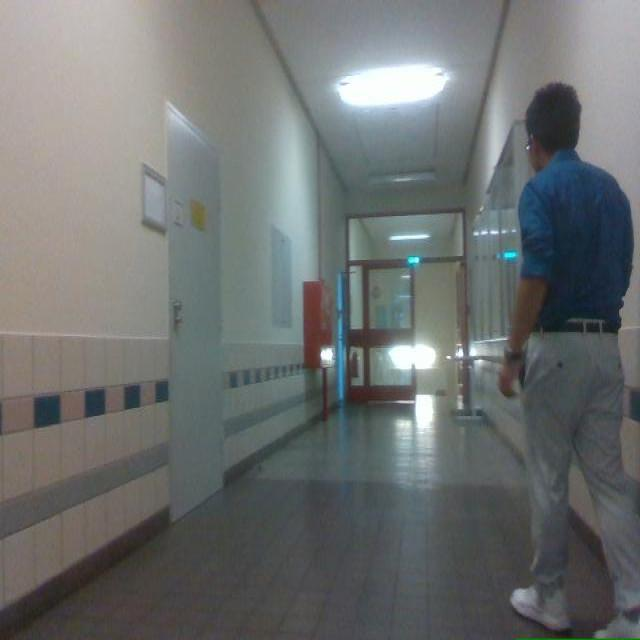humans: (499, 83, 639, 637)
